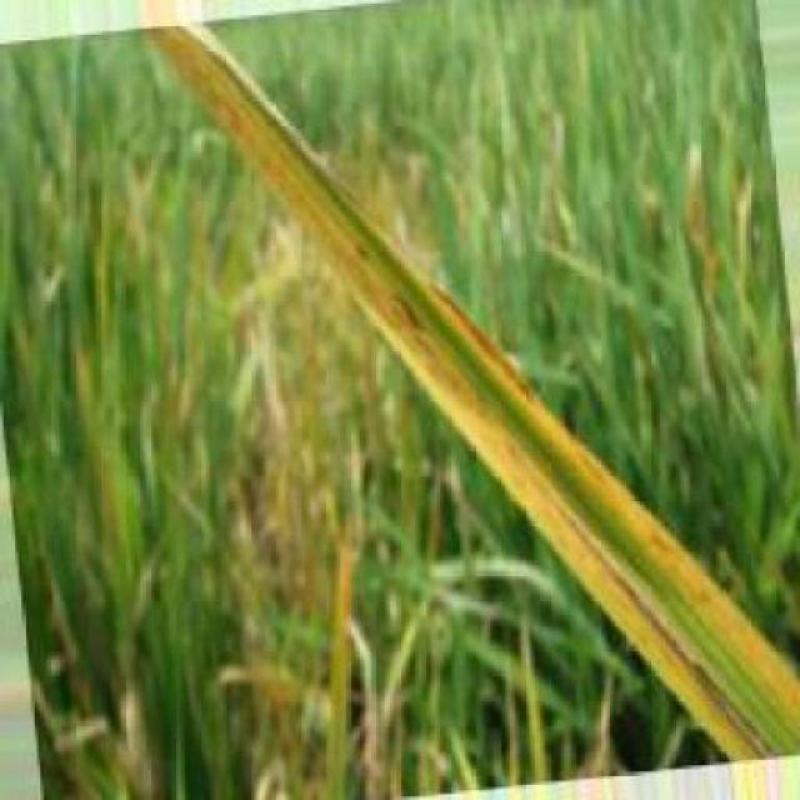Rice Tungro: (137, 6, 791, 754)
